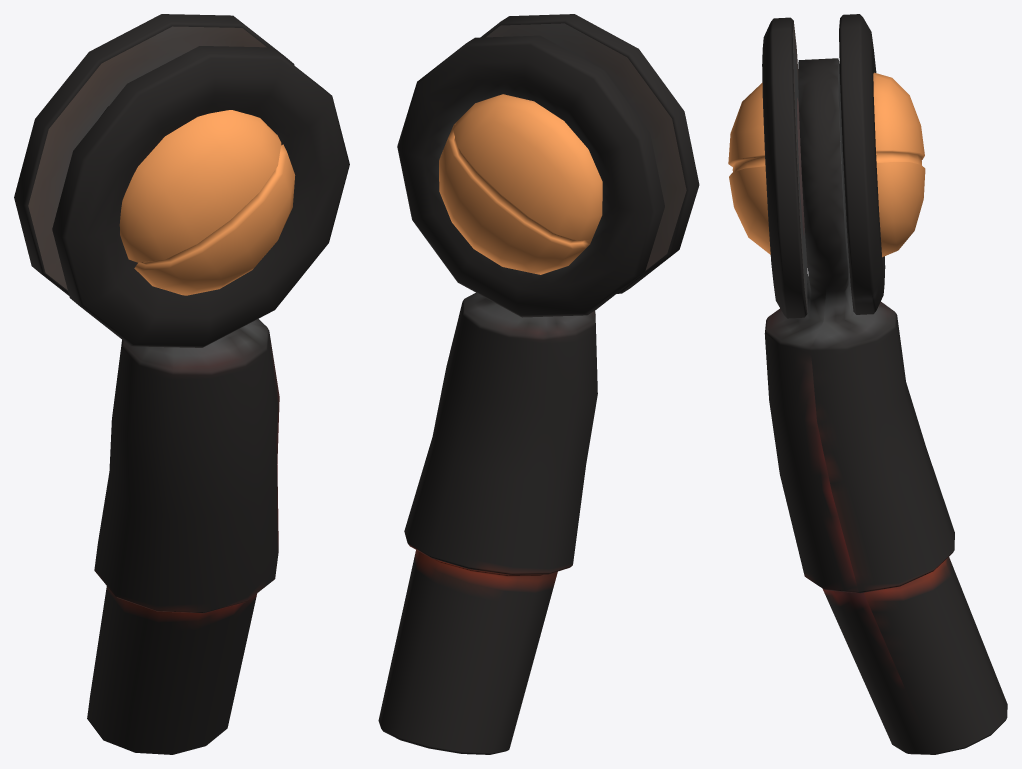
Rendered from leg_up_right.obj.
3 views of the same model, side by side, from view 1: azimuth 30°, elevation 25°; view 2: azimuth 150°, elevation 25°; view 3: azimuth 270°, elevation 25° (orthographic). The views are drawn at different scales.
Parts seen in each view (by area): view 1: leg_up_right leg_up_right, leg_up_right leg_plate_front_right, leg_up_right leg_screw_front_right pivot, leg_plate_back_right leg_up_right; view 2: leg_up_right leg_up_right, leg_plate_back_right leg_up_right, leg_up_right pivot leg_screw_back_right, leg_up_right leg_plate_front_right; view 3: leg_up_right leg_up_right, leg_up_right leg_plate_front_right, leg_plate_back_right leg_up_right, leg_up_right pivot leg_screw_back_right, leg_up_right leg_screw_front_right pivot.
Boxes of the visible parts, x1,y1,x2,y2 form: leg_up_right leg_up_right: (87,106,279,754); leg_up_right leg_plate_front_right: (52,46,349,347); leg_up_right leg_screw_front_right pivot: (119,110,295,295); leg_plate_back_right leg_up_right: (14,14,294,295); leg_up_right leg_up_right: (378,292,597,754); leg_plate_back_right leg_up_right: (397,35,664,317); leg_up_right pivot leg_screw_back_right: (439,94,602,274); leg_up_right leg_plate_front_right: (480,14,699,293); leg_up_right leg_up_right: (764,58,1007,754); leg_up_right leg_plate_front_right: (762,17,807,318); leg_plate_back_right leg_up_right: (839,14,885,314); leg_up_right pivot leg_screw_back_right: (873,72,925,257); leg_up_right leg_screw_front_right pivot: (728,82,804,254).
Size of the model in its own units: 0.156 by 0.3947 by 0.1444.
Materials: 1 (1 with a texture image).
